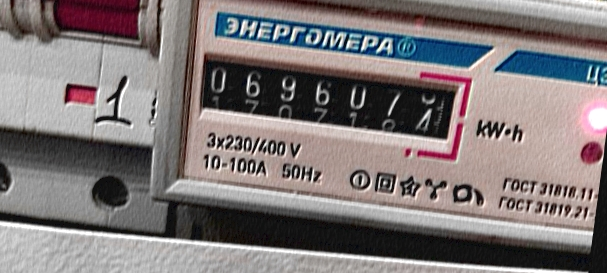0: (208, 63, 233, 95), (349, 80, 372, 112)
4: (413, 104, 436, 135)
6: (313, 76, 337, 109), (244, 67, 266, 99)
7: (383, 84, 405, 117)
9: (278, 72, 302, 103)
screen: (185, 35, 478, 163)
